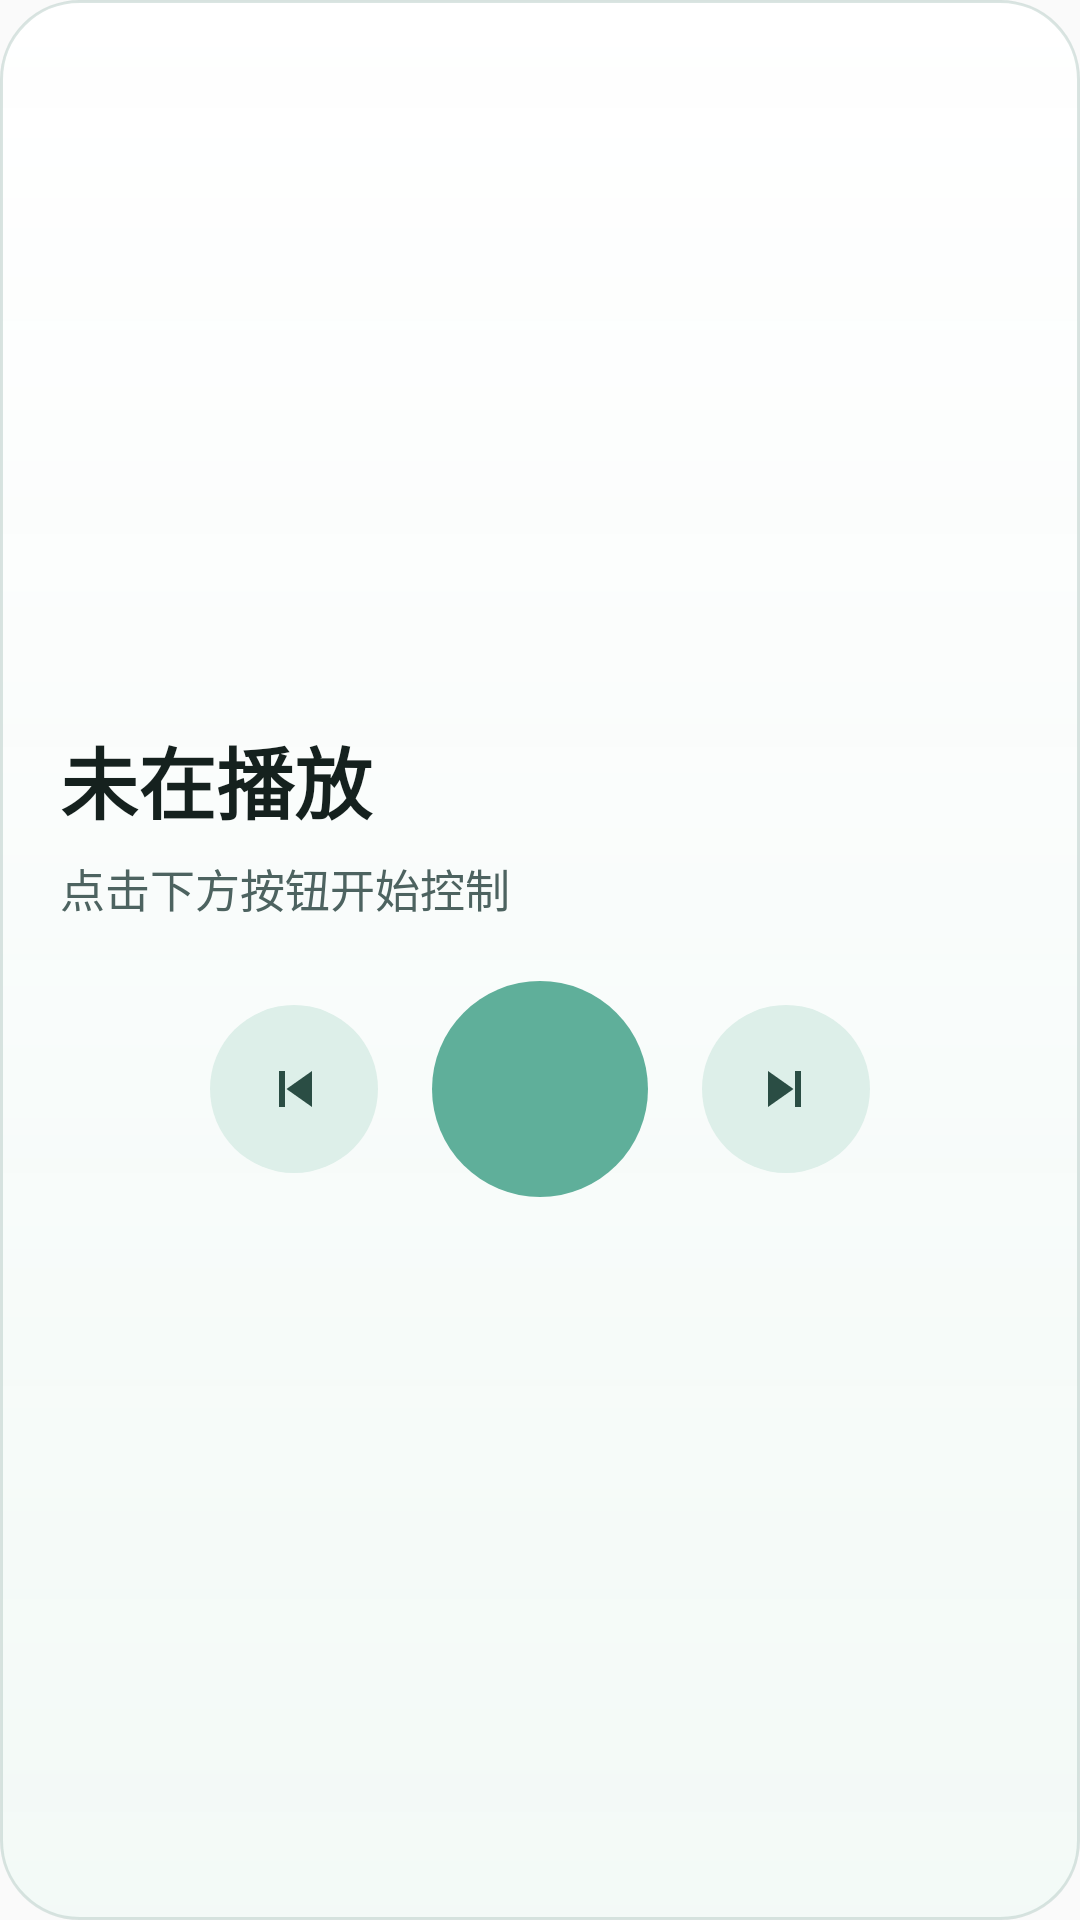

Where icons sit on this 1080*1920 app screen, as (x1, y1, x2, y2):
上一首: (210, 1005, 378, 1173)
下一首: (702, 1005, 870, 1173)
